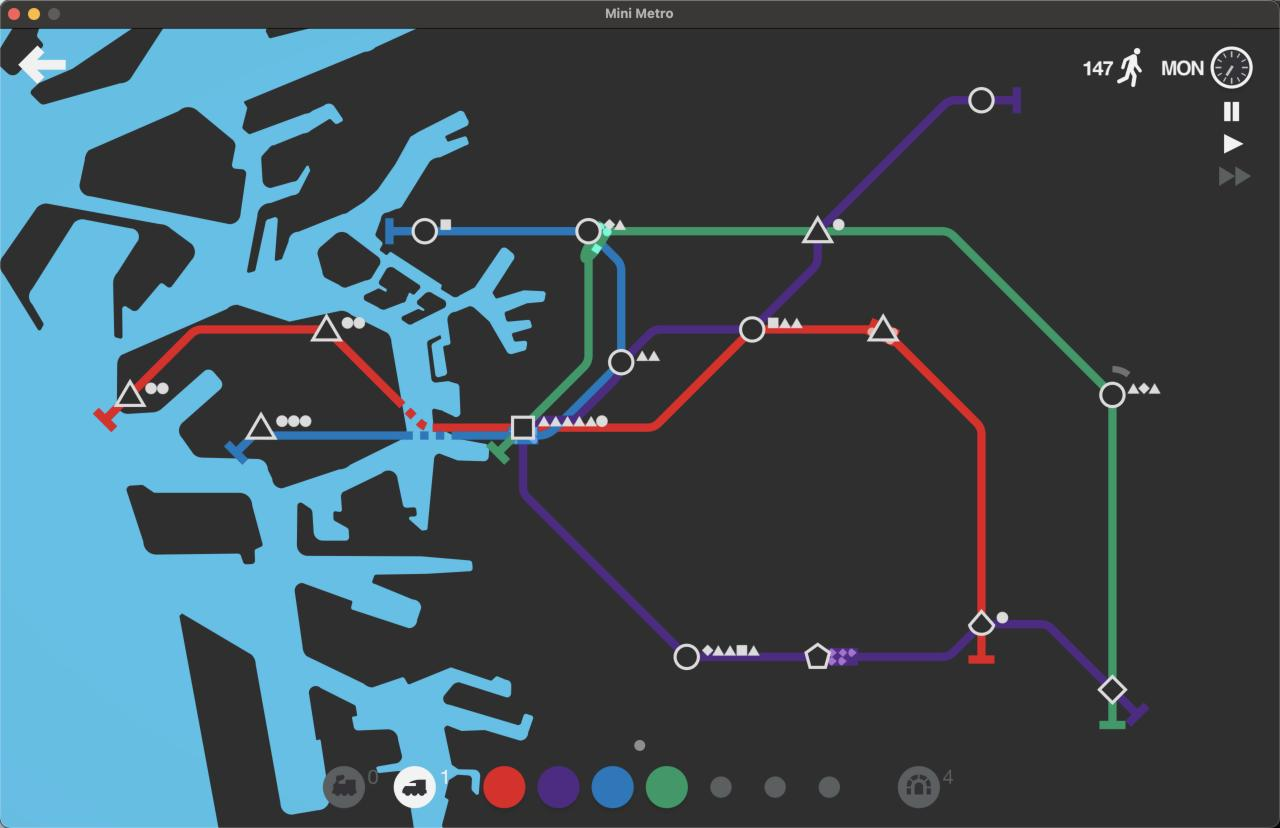CIRCLE: (410, 217, 438, 246), (1098, 381, 1127, 409), (575, 217, 603, 245), (607, 348, 635, 376), (738, 315, 765, 343), (673, 643, 700, 671), (968, 86, 995, 114)
GEM: (1099, 669, 1129, 704)
PENTAGON: (803, 640, 832, 672)
SQUARE: (511, 413, 538, 442)
TRIANGLE: (802, 213, 836, 246), (114, 377, 147, 409), (309, 313, 344, 343), (244, 411, 279, 441), (870, 311, 898, 344)
WEDGE: (966, 608, 998, 636)
